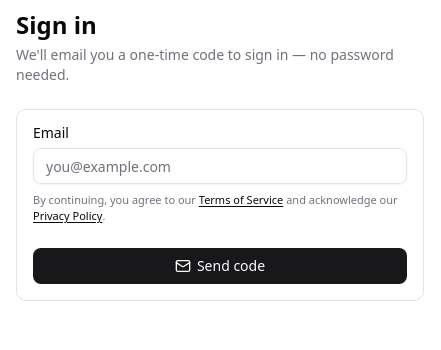
Test: SignInPageClient › starts a cooldown when the OTP endpoint is rate limited
In the field labelled "Email": point(220, 166) left=33, top=148, right=407, bottom=184, type "ada@example.com"
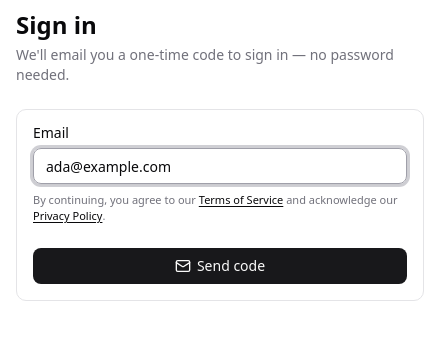
Click the button "Send code": point(220, 266) left=33, top=248, right=407, bottom=284
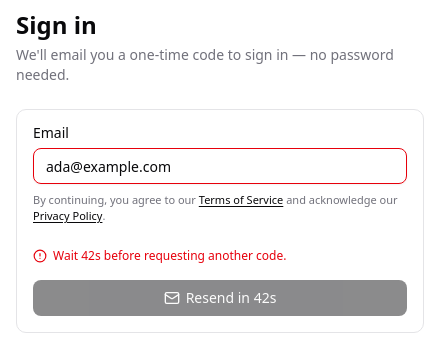
Check: the button "Resend in 42s" is disabled, box left=33, top=280, right=407, bottom=316
